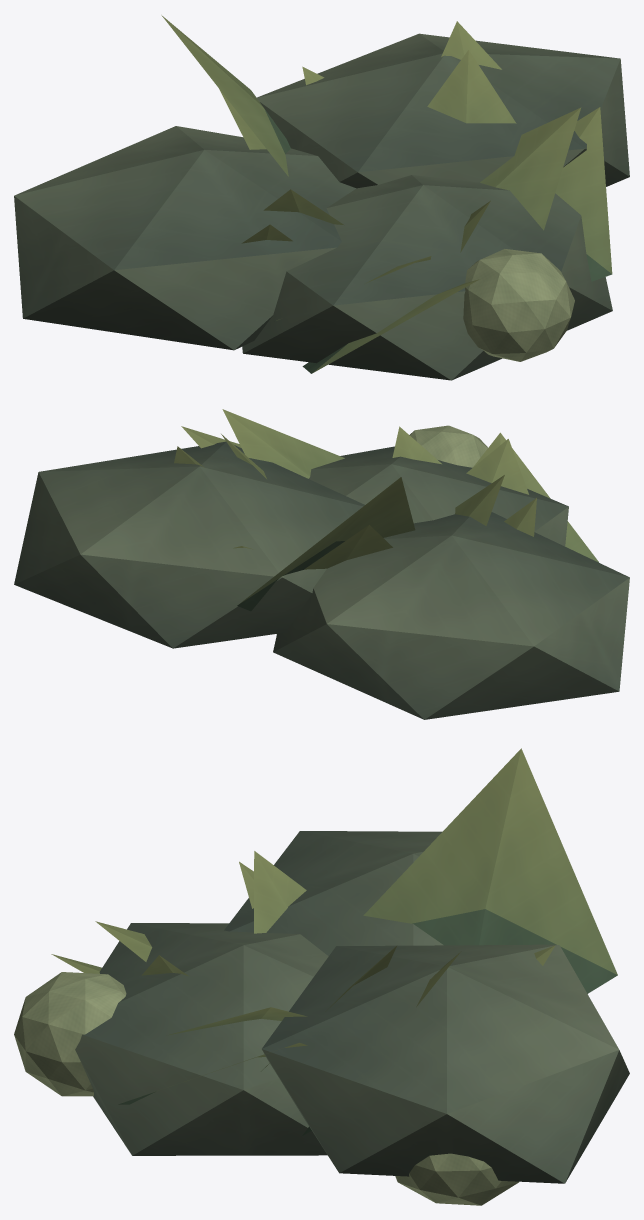
File: forest_moss.glb
3 views of the same model, one above another, from view 1: azimuth 30°, elevation 25°; view 2: azimuth 150°, elevation 25°; view 3: azimuth 270°, elevation 25° (orthographic). The views are drawn at different scales.
Parts seen in each view (by area): view 1: Soft moss patch, Soft moss patch.002, Soft moss patch.001, Moss tiny sprouting mound.002, Woodland shared curved ivy leaf.059, Woodland shared curved ivy leaf.067, Woodland shared curved ivy leaf.062, Woodland shared curved ivy leaf.068, Woodland shared curved ivy leaf.069, Woodland shared curved ivy leaf.070, Woodland shared curved ivy leaf.058, Woodland shared curved ivy leaf.060; view 2: Soft moss patch, Soft moss patch.001, Soft moss patch.002, Woodland shared curved ivy leaf.068, Woodland shared curved ivy leaf.059, Moss tiny sprouting mound.002, Woodland shared curved ivy leaf.061, Woodland shared curved ivy leaf.060, Woodland shared curved ivy leaf.069, Woodland shared curved ivy leaf.058, Woodland shared curved ivy leaf.064, Woodland shared curved ivy leaf.066 (+1 smaller); view 3: Soft moss patch.001, Soft moss patch.002, Woodland shared curved ivy leaf.068, Soft moss patch, Moss tiny sprouting mound.002, Moss tiny sprouting mound.001, Woodland shared curved ivy leaf.058, Woodland shared curved ivy leaf.061, Woodland shared curved ivy leaf.059.
Part boxes in pixels (bbox=[...]): Soft moss patch: bbox=[14, 126, 355, 350]; Soft moss patch.002: bbox=[242, 175, 612, 380]; Soft moss patch.001: bbox=[257, 33, 629, 188]; Moss tiny sprouting mound.002: bbox=[463, 249, 574, 361]; Woodland shared curved ivy leaf.059: bbox=[480, 107, 581, 230]; Woodland shared curved ivy leaf.067: bbox=[555, 107, 612, 281]; Woodland shared curved ivy leaf.062: bbox=[427, 50, 516, 123]; Woodland shared curved ivy leaf.068: bbox=[161, 15, 290, 176]; Woodland shared curved ivy leaf.069: bbox=[302, 279, 479, 373]; Woodland shared curved ivy leaf.070: bbox=[441, 21, 501, 69]; Woodland shared curved ivy leaf.058: bbox=[263, 189, 344, 225]; Woodland shared curved ivy leaf.060: bbox=[219, 89, 266, 149]; Soft moss patch: bbox=[273, 512, 629, 719]; Soft moss patch.001: bbox=[14, 441, 364, 648]; Soft moss patch.002: bbox=[309, 446, 568, 546]; Woodland shared curved ivy leaf.068: bbox=[237, 477, 415, 611]; Woodland shared curved ivy leaf.059: bbox=[222, 409, 344, 478]; Moss tiny sprouting mound.002: bbox=[409, 425, 487, 467]; Woodland shared curved ivy leaf.061: bbox=[466, 439, 528, 494]; Woodland shared curved ivy leaf.060: bbox=[276, 525, 392, 634]; Woodland shared curved ivy leaf.069: bbox=[473, 432, 598, 562]; Woodland shared curved ivy leaf.058: bbox=[455, 475, 504, 525]; Woodland shared curved ivy leaf.064: bbox=[392, 426, 441, 464]; Woodland shared curved ivy leaf.066: bbox=[504, 498, 536, 536]; Soft moss patch.001: bbox=[262, 944, 629, 1183]; Soft moss patch.002: bbox=[75, 923, 328, 1155]; Woodland shared curved ivy leaf.068: bbox=[363, 748, 617, 993]; Soft moss patch: bbox=[224, 831, 443, 956]; Moss tiny sprouting mound.002: bbox=[14, 972, 126, 1096]; Moss tiny sprouting mound.001: bbox=[395, 1153, 518, 1205]; Woodland shared curved ivy leaf.058: bbox=[254, 851, 306, 933]; Woodland shared curved ivy leaf.061: bbox=[95, 921, 152, 961]; Woodland shared curved ivy leaf.059: bbox=[166, 1007, 307, 1035].
Bounding box in the file's own units: 0.6914 × 0.3017 × 0.5451.
Materials: 4 (4 with a texture image).
